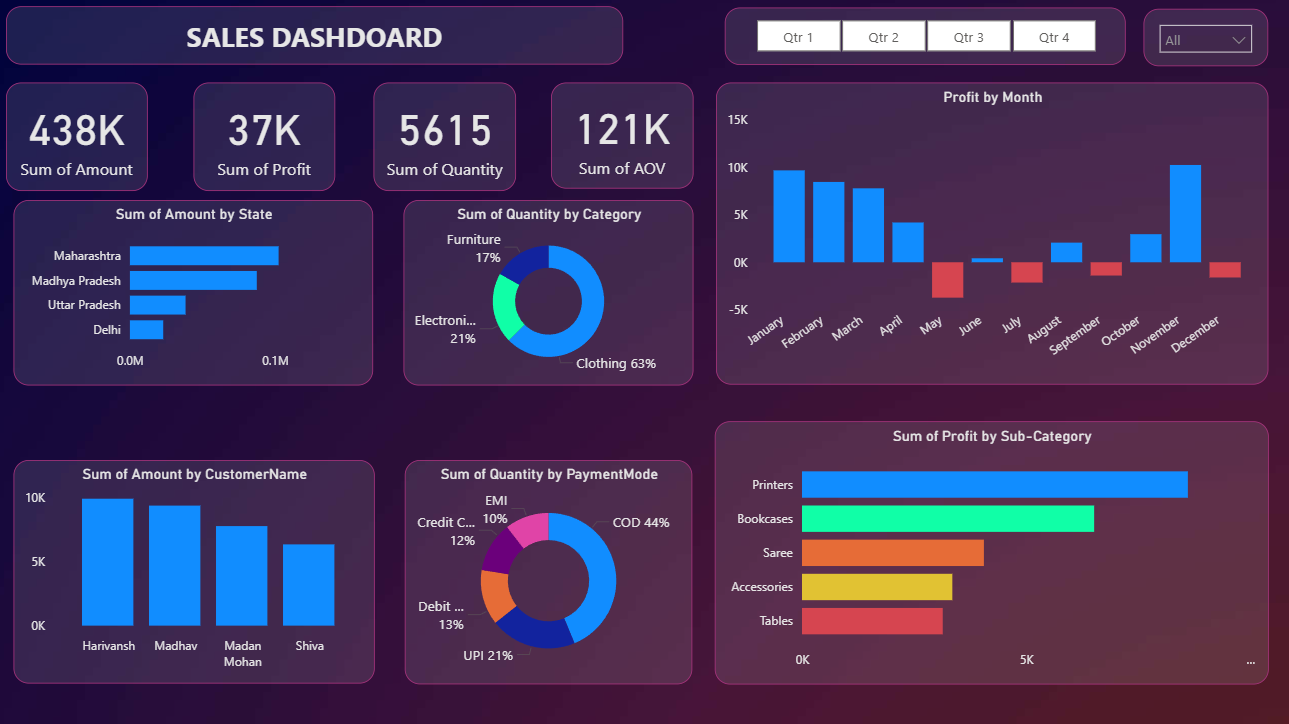

The page's visual inventory and layout, read from the dashboard file:
{"tool":"powerbi","page":{"name":"Page 1","canvas":[1280,720],"ordinal":0},"visuals":[{"type":"textbox","box":[9.6,10.8,609.6,57.8],"z":0},{"type":"columnChart","title":"Profit by Month","fields":{"Category":["Orders.Order Date.Variation.Date Hierarchy.Month"],"Y":["Details.Profit"]},"box":[710.8,86.7,545.8,298.8],"z":1000},{"type":"barChart","fields":{"Category":["Details.Sub-Category"],"Y":["Details.Profit"]},"box":[709.6,420.5,547,260.2],"z":2000},{"type":"donutChart","fields":{"Category":["Details.Category"],"Y":["Details.Quantity"]},"box":[402.4,202.4,286.7,183.1],"z":3000},{"type":"donutChart","fields":{"Y":["Details.Quantity"],"Category":["Details.PaymentMode"]},"box":[403.6,459,284.3,221.7],"z":4000},{"type":"card","fields":{"Values":["Details.Amount"]},"box":[9.6,86.7,139.8,107.2],"z":5000},{"type":"card","fields":{"Values":["Details.Profit"]},"box":[195.2,86.7,139.8,107.2],"z":6000},{"type":"card","fields":{"Values":["Details.Quantity"]},"box":[372.3,86.7,141,107.2],"z":7000},{"type":"card","fields":{"Values":["Details.AOV"]},"box":[548.2,86.7,141,104.8],"z":8000},{"type":"barChart","fields":{"Category":["Orders.State"],"Y":["Details.Amount"]},"box":[16.9,202.4,355.4,183.1],"z":9000},{"type":"columnChart","fields":{"Category":["Orders.CustomerName"],"Y":["Details.Amount"]},"box":[16.9,459,356.6,220.5],"z":10000},{"type":"slicer","fields":{"Values":["Orders.Order Date.Variation.Date Hierarchy.Quarter"]},"box":[719.3,12,396.4,56.6],"z":11000},{"type":"slicer","fields":{"Values":["Orders.State"]},"box":[1133.7,13.3,122.9,56.6],"z":12000}]}

Visuals, with their boxes in screenshot pixels (x1, y1, x2, y2), scaled from the page's 1280x720 canvas onto the 1289x724 screenshot:
textbox: box=[10, 11, 624, 69]
"Profit by Month" columnChart: box=[716, 87, 1265, 388]
barChart - Details.Sub-Category x Details.Profit: box=[715, 423, 1265, 684]
donutChart - Details.Category x Details.Quantity: box=[405, 204, 694, 388]
donutChart - Details.Quantity x Details.PaymentMode: box=[406, 462, 693, 684]
card - Details.Amount: box=[10, 87, 150, 195]
card - Details.Profit: box=[197, 87, 337, 195]
card - Details.Quantity: box=[375, 87, 517, 195]
card - Details.AOV: box=[552, 87, 694, 193]
barChart - Orders.State x Details.Amount: box=[17, 204, 375, 388]
columnChart - Orders.CustomerName x Details.Amount: box=[17, 462, 376, 683]
slicer - Orders.Order Date.Variation.Date Hierarchy.Quarter: box=[724, 12, 1124, 69]
slicer - Orders.State: box=[1142, 13, 1265, 70]
